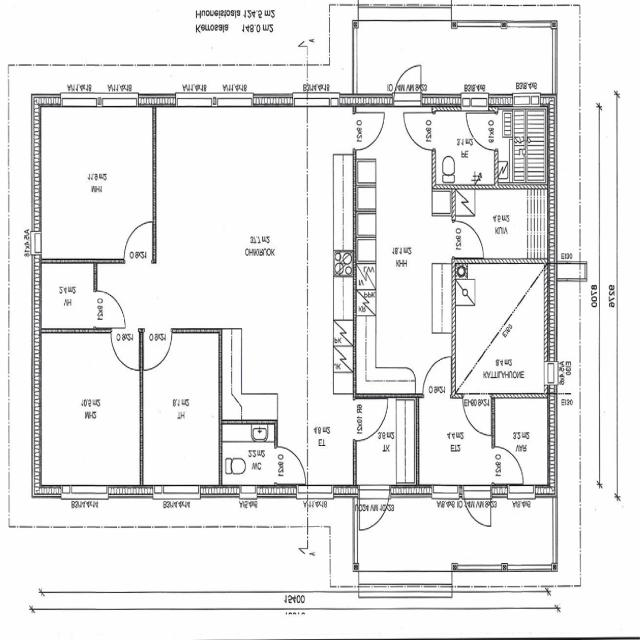door: (359, 485, 390, 538), (394, 57, 421, 106), (353, 401, 386, 440), (464, 485, 490, 533), (404, 112, 436, 150), (124, 222, 152, 263), (111, 328, 139, 369), (467, 113, 498, 150), (491, 446, 522, 483), (353, 113, 384, 150), (424, 356, 451, 398), (145, 328, 172, 369), (452, 221, 482, 256), (94, 291, 123, 326), (275, 448, 304, 482)
